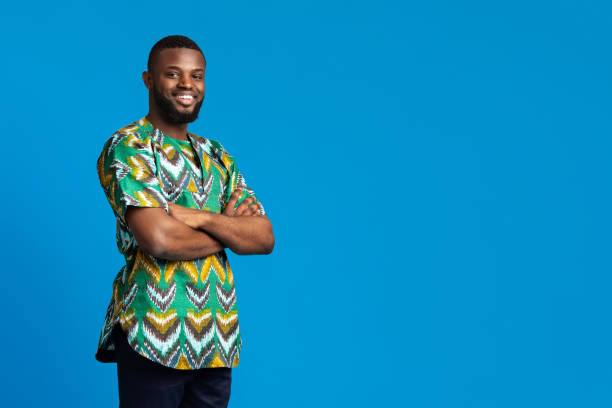person: (142, 33, 207, 129)
